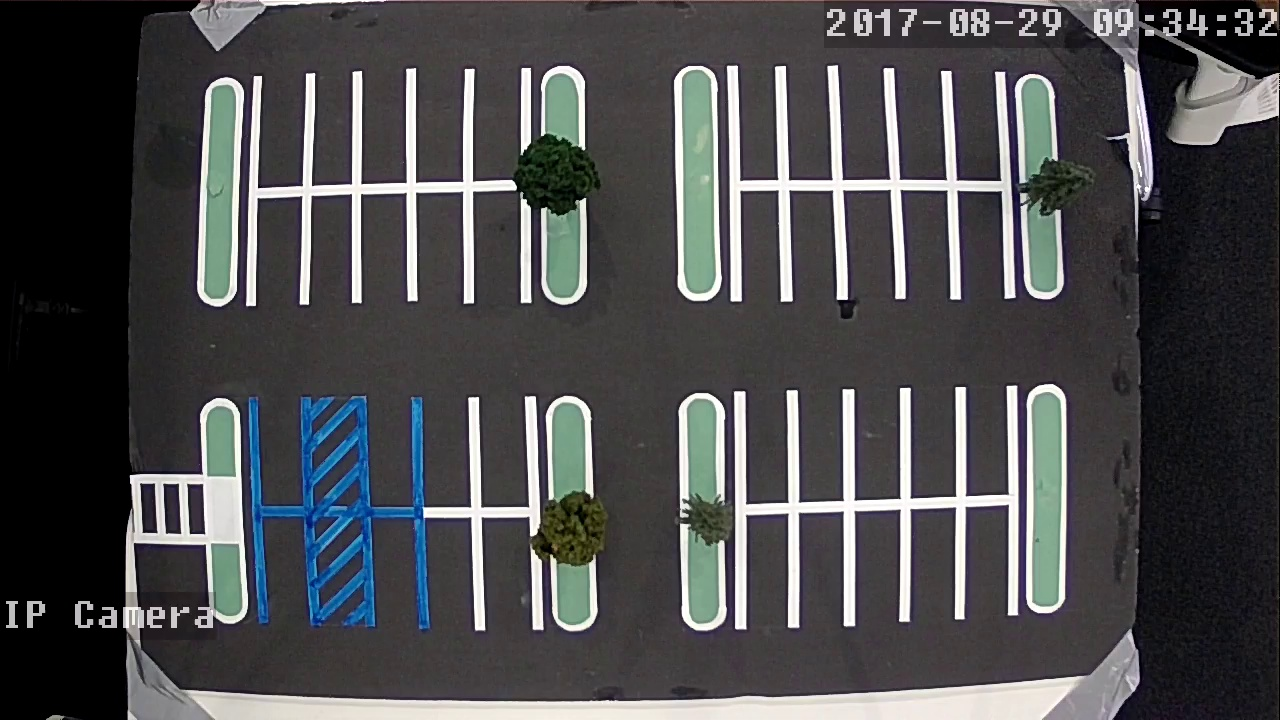1a: (251, 70, 311, 194)
1b: (307, 70, 360, 192)
1c: (356, 68, 412, 191)
1d: (409, 66, 469, 188)
1e: (467, 67, 525, 186)
1f: (249, 188, 308, 313)
1g: (303, 188, 360, 314)
1h: (356, 186, 413, 312)
1i: (413, 186, 470, 312)
1j: (471, 184, 527, 311)
2a: (729, 59, 783, 186)
2b: (779, 60, 837, 186)
2c: (836, 60, 895, 186)
2d: (890, 58, 949, 184)
2e: (946, 60, 1006, 187)
2f: (730, 182, 788, 307)
2g: (785, 183, 843, 308)
2h: (841, 185, 901, 310)
2i: (896, 183, 954, 305)
2j: (952, 186, 1011, 308)
3a: (252, 394, 308, 510)
3c: (361, 391, 419, 512)
3d: (418, 391, 476, 512)
3e: (472, 391, 533, 513)
3f: (257, 507, 314, 625)
3h: (364, 511, 422, 627)
3i: (420, 511, 479, 630)
3j: (476, 511, 535, 633)
4a: (735, 388, 796, 510)
4b: (792, 386, 853, 508)
4c: (847, 385, 908, 507)
4d: (903, 383, 964, 505)
4e: (957, 378, 1018, 500)
4f: (736, 506, 797, 628)
4g: (790, 506, 851, 628)
4h: (846, 504, 907, 626)
4i: (904, 502, 965, 624)
4j: (958, 500, 1019, 622)
